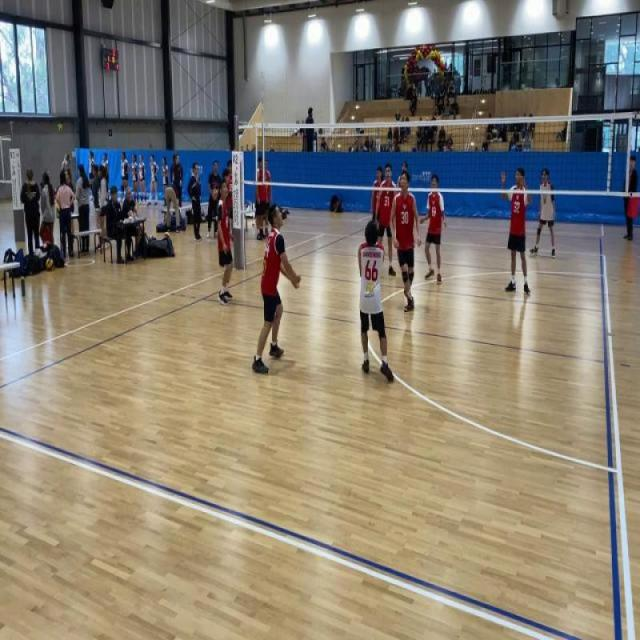volleyball: (45, 257, 54, 270), (57, 123, 63, 132), (163, 231, 170, 238), (56, 203, 60, 214), (148, 234, 153, 242)
